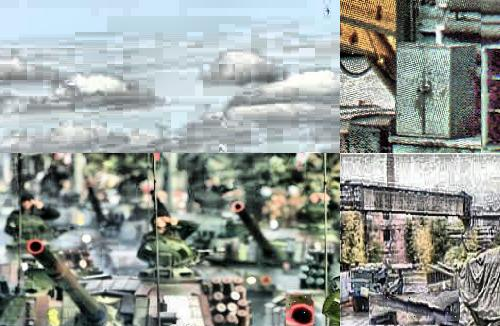tanks: (1, 243, 251, 326), (370, 298, 460, 318), (288, 294, 315, 326), (325, 290, 341, 326), (486, 321, 500, 326)
